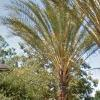Palm tree: (17, 2, 87, 100)
